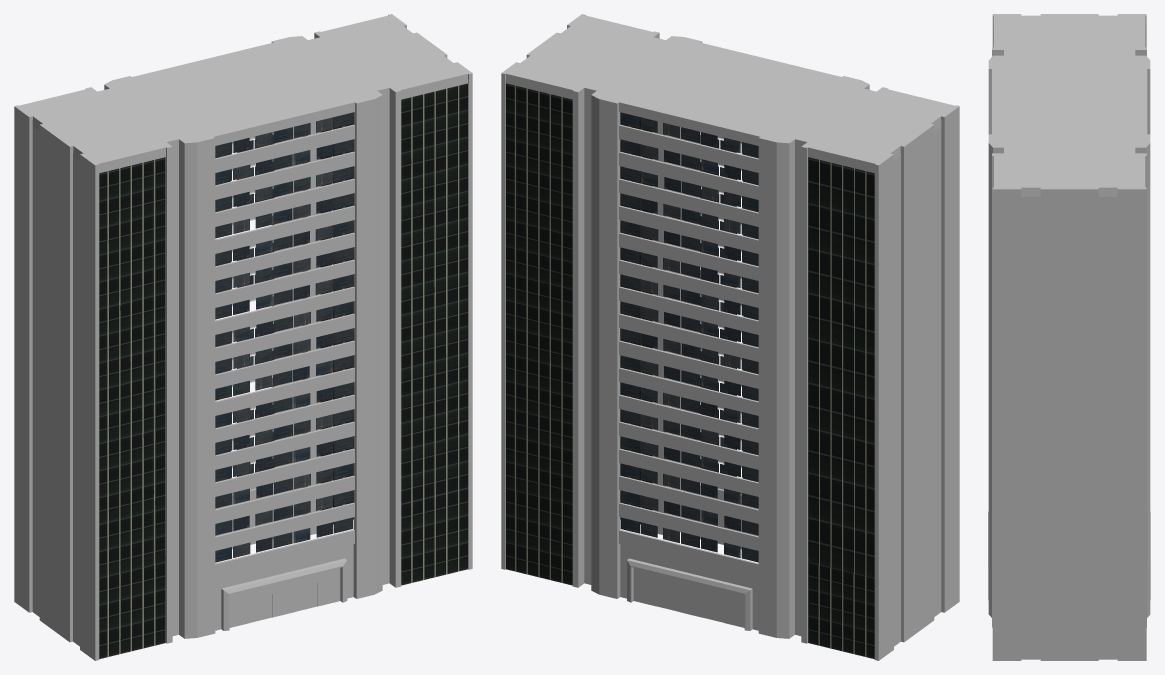
The picture shows the model from 3 angles, left to right: view 1: azimuth 30°, elevation 25°; view 2: azimuth 150°, elevation 25°; view 3: azimuth 270°, elevation 25°; orthographic projection. The views are drawn at different scales.
Parts seen in each view (by area): view 1: BC-070; view 2: BC-070; view 3: BC-070.
Boxes of the visible parts, box(x1,y1,x2,y2) form: BC-070: box(14, 14, 472, 660); BC-070: box(501, 14, 959, 660); BC-070: box(988, 14, 1150, 660).
Size of what is drawn, in the model's own units: 43.92 by 55.08 by 17.16.
